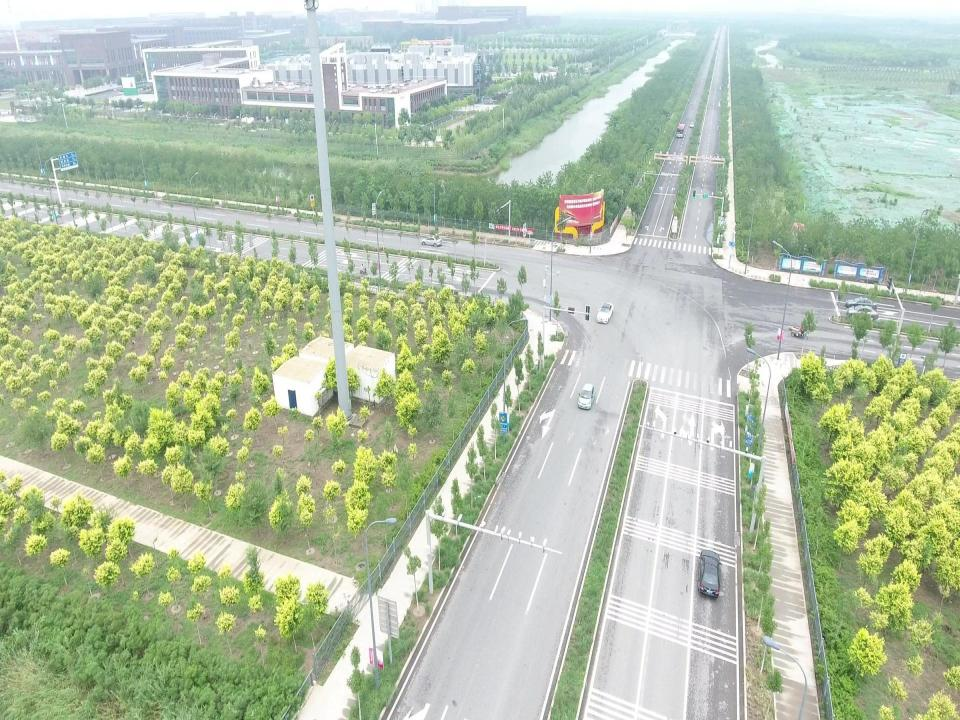bus: (676, 123, 685, 137)
car: (698, 549, 722, 598), (846, 305, 880, 321), (577, 383, 595, 410), (846, 295, 878, 308), (596, 302, 614, 324), (422, 235, 442, 247), (690, 121, 694, 128)
